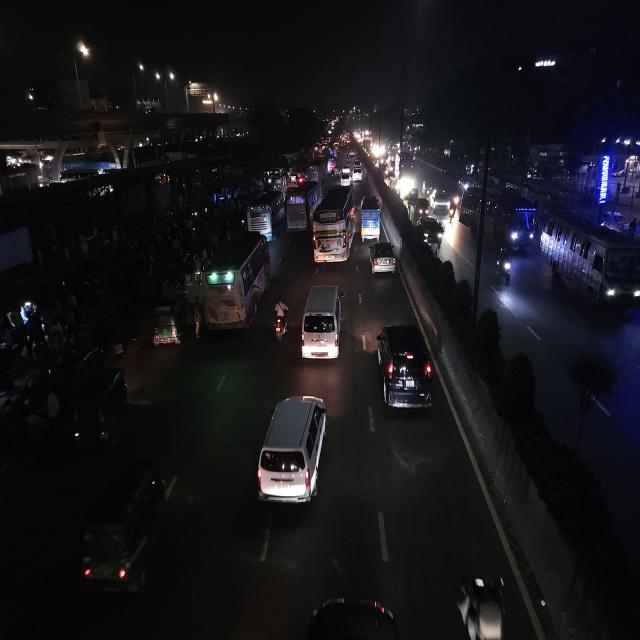bus: (539, 203, 640, 317), (198, 232, 272, 338), (311, 185, 357, 268), (498, 190, 538, 255), (459, 185, 497, 252), (246, 191, 284, 241), (285, 181, 319, 236)
car: (252, 389, 332, 521), (373, 320, 438, 426), (297, 591, 409, 640), (298, 279, 346, 367), (368, 236, 398, 281), (416, 215, 444, 247), (432, 188, 452, 215), (352, 162, 364, 182), (341, 168, 352, 185)
cng: (72, 451, 170, 609), (295, 590, 408, 640), (69, 365, 129, 458), (150, 298, 185, 351), (413, 197, 432, 220)
motorcycle: (453, 570, 513, 640), (272, 296, 291, 345), (494, 246, 514, 290), (446, 204, 456, 227)
truck: (358, 193, 382, 243), (398, 156, 417, 191)
